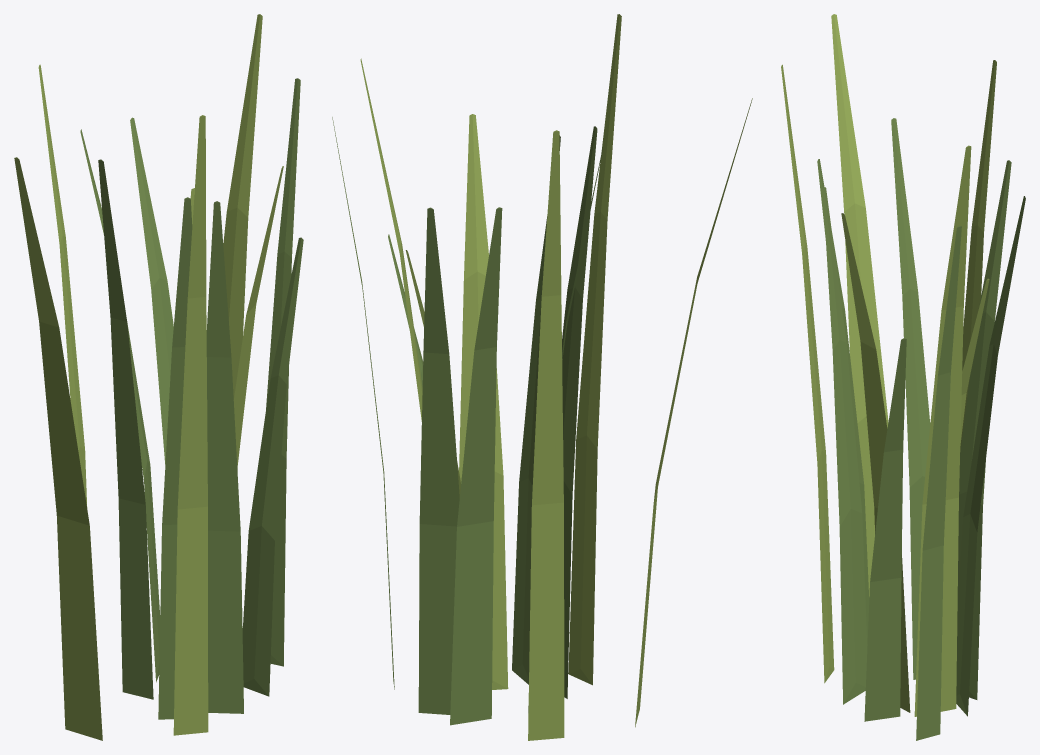
File: sedge_c.glb
The picture shows the model from 3 angles, left to right: view 1: azimuth 30°, elevation 25°; view 2: azimuth 150°, elevation 25°; view 3: azimuth 270°, elevation 25°; orthographic projection. The views are drawn at different scales.
Visible parts, largest first — view 1: SedgeC; view 2: SedgeC; view 3: SedgeC.
Part boxes in pixels (x1,y1,x2,y2): SedgeC: (14, 14, 303, 740); SedgeC: (332, 14, 752, 740); SedgeC: (781, 14, 1025, 740).
Size of the model in its own units: 0.5012 by 0.8767 by 0.321.
